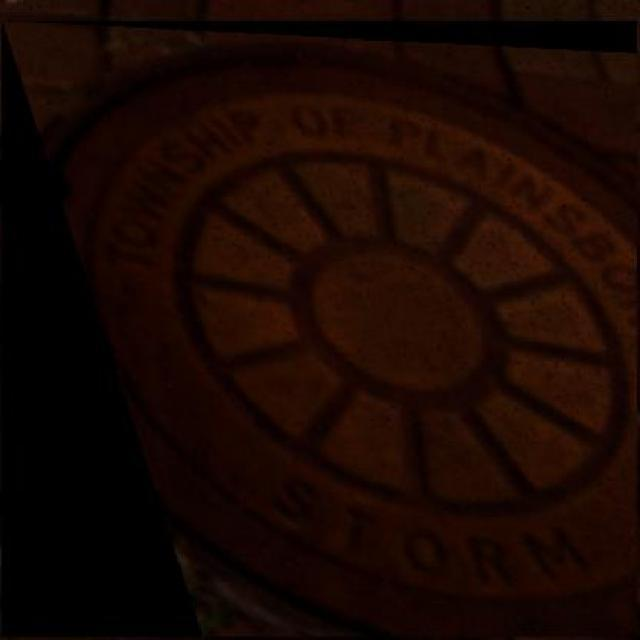Manhole: (1, 20, 637, 637)
